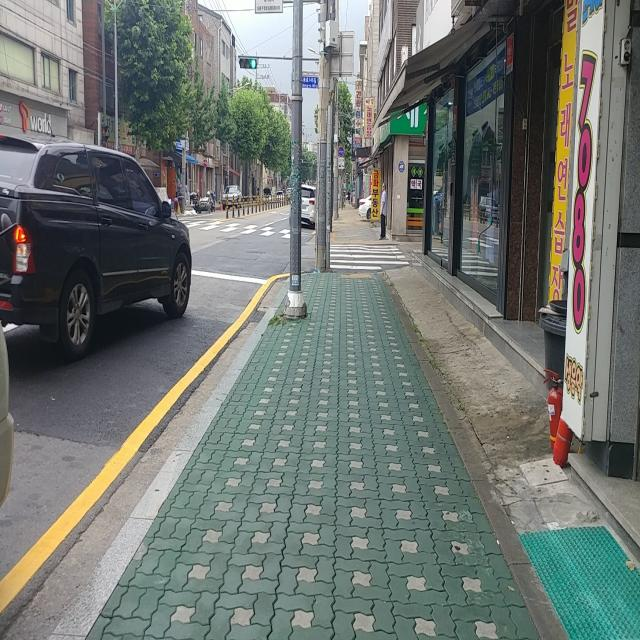횡단보도: (190, 217, 287, 239), (329, 245, 410, 270)
